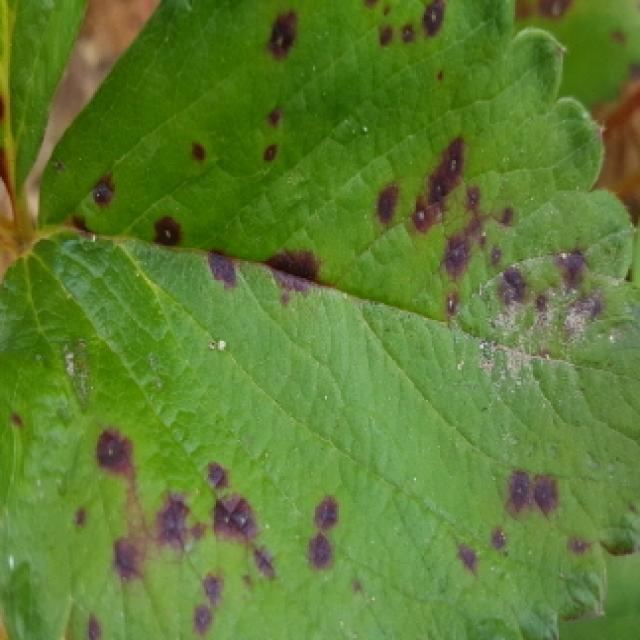Leaf Spot: (0, 0, 640, 640), (513, 0, 640, 103)
